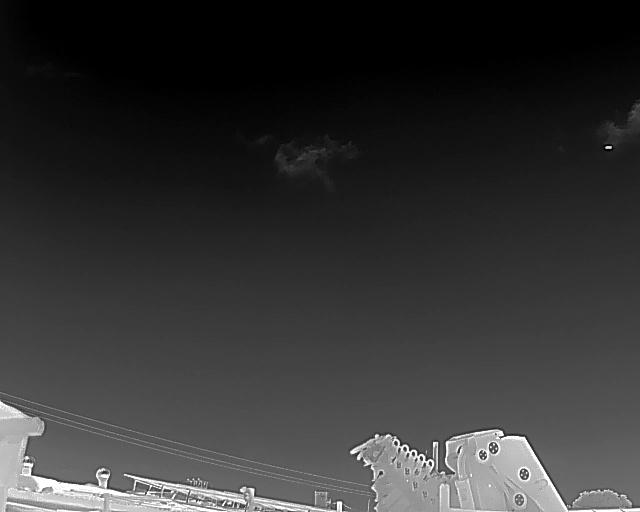fpv-drone: (604, 144, 613, 150)
